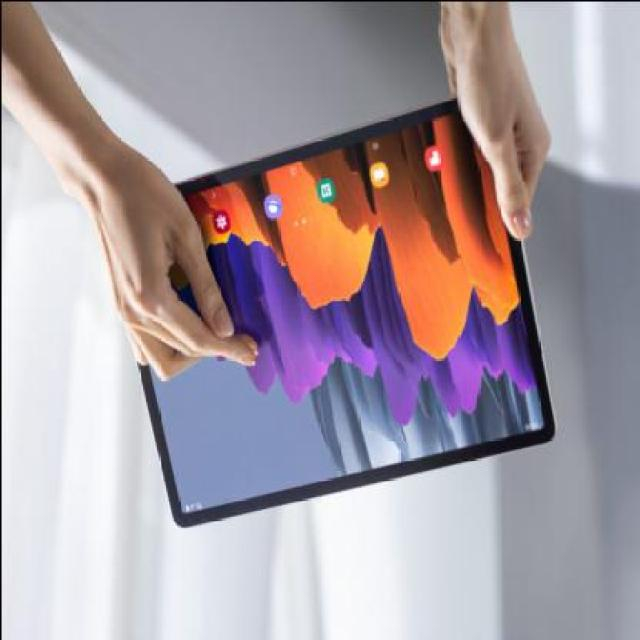tablet: (45, 83, 615, 579)
